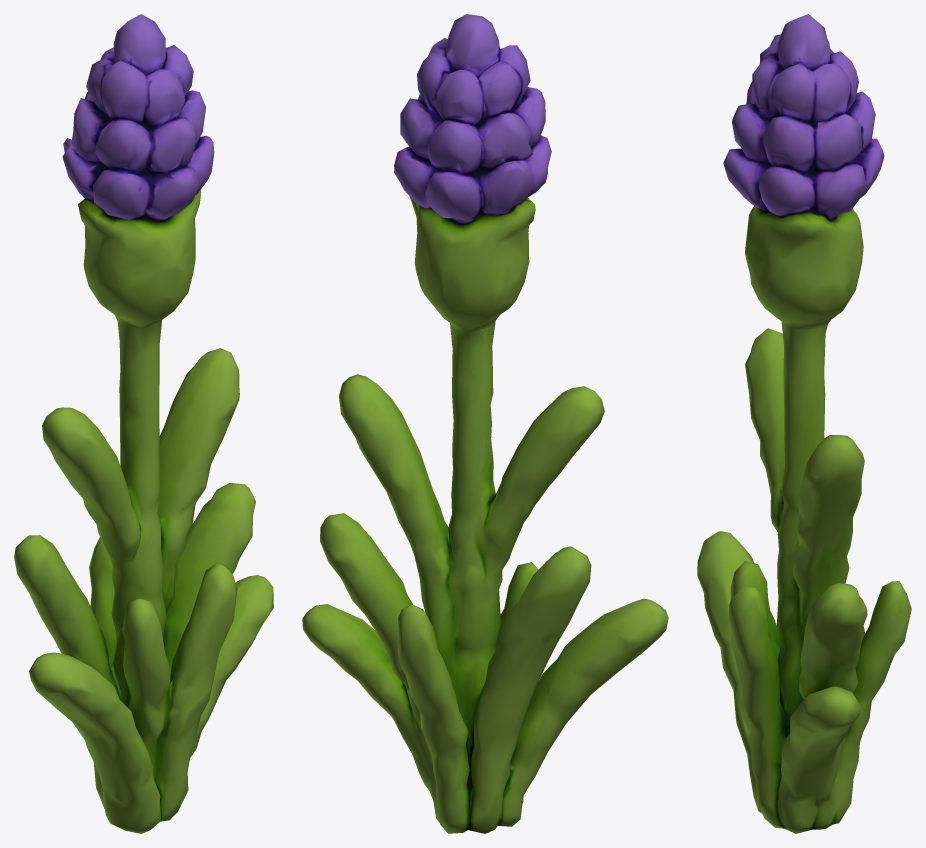
Rendered from lavender_s3.glb.
3 views of the same model, side by side, from view 1: azimuth 30°, elevation 25°; view 2: azimuth 150°, elevation 25°; view 3: azimuth 270°, elevation 25° (orthographic).
Visible parts, largest first — view 1: tripo_node_3e8ab2fe-a6ed-4154-8f20-a33b59ad3de8; view 2: tripo_node_3e8ab2fe-a6ed-4154-8f20-a33b59ad3de8; view 3: tripo_node_3e8ab2fe-a6ed-4154-8f20-a33b59ad3de8.
Boxes of the visible parts, left/top/right/bottom form: tripo_node_3e8ab2fe-a6ed-4154-8f20-a33b59ad3de8: left=14, top=14, right=273, bottom=833; tripo_node_3e8ab2fe-a6ed-4154-8f20-a33b59ad3de8: left=302, top=14, right=668, bottom=833; tripo_node_3e8ab2fe-a6ed-4154-8f20-a33b59ad3de8: left=697, top=14, right=911, bottom=833.
Bounding box in the file's own units: 0.3861 × 1 × 0.2404.
1 material, 1 textured.
